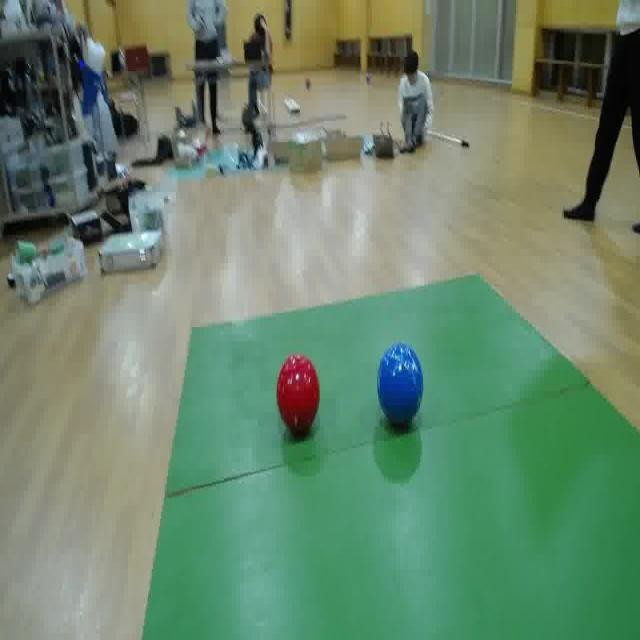blue_ball: (376, 341, 425, 426)
red_ball: (276, 352, 322, 438)
